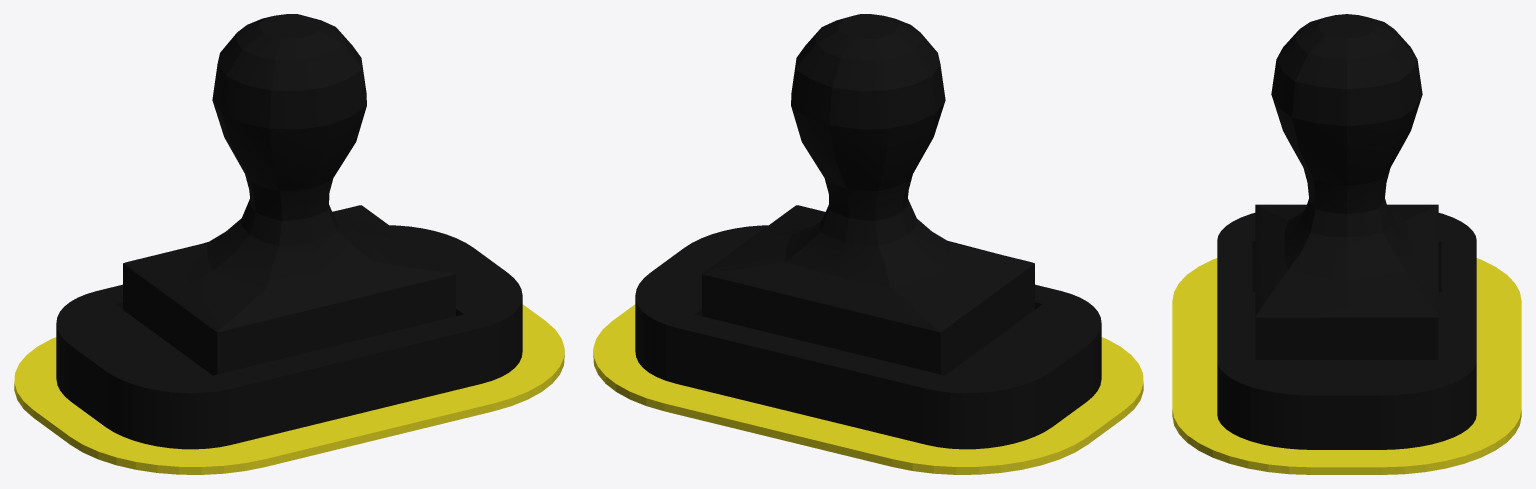
The model's file is 0510stamp_with__light.fbx.
The picture shows the model from 3 angles, left to right: view 1: azimuth 30°, elevation 25°; view 2: azimuth 150°, elevation 25°; view 3: azimuth 270°, elevation 25°; orthographic projection. The views are drawn at different scales.
Parts seen in each view (by area): view 1: Cube.004, Cube.005, Cube; view 2: Cube.004, Cube.005, Cube; view 3: Cube.004, Cube.005, Cube.
Boxes of the visible parts, x1,y1,x2,y2 form: Cube.004: (123,14,455,375); Cube.005: (56,225,522,449); Cube: (14,304,564,474); Cube.004: (702,14,1034,375); Cube.005: (635,225,1101,449); Cube: (593,304,1143,474); Cube.004: (1255,14,1438,359); Cube.005: (1217,213,1476,449); Cube: (1172,258,1521,474).
Bounding box in the file's own units: 9.61 × 6.7 × 6.3.
